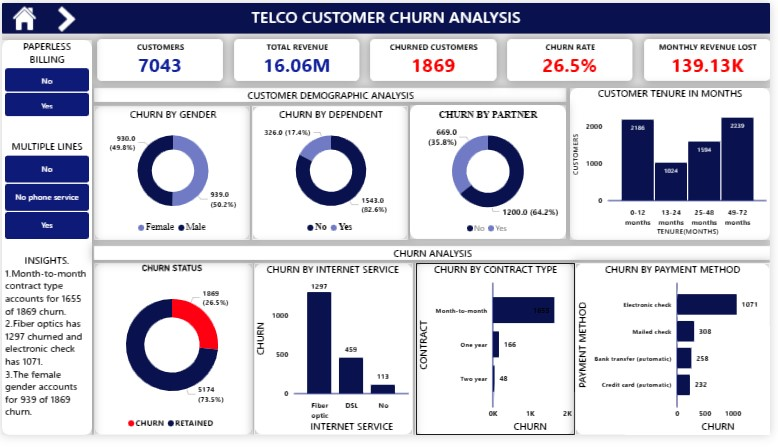

Layout of this report page (visuals, bound fields, positions):
{"tool":"powerbi","page":{"name":"OVERVIEW DASHBOARD","canvas":[1280,720],"ordinal":1},"visuals":[{"type":"shape","title":"CUSTOMER DEMOGRAPHIC ANALYSIS","box":[687.8,433.3,265,286.7],"z":0},{"type":"shape","title":"CUSTOMER DEMOGRAPHIC ANALYSIS","box":[153.3,433.3,265,286.7],"z":1000},{"type":"shape","title":"CUSTOMER DEMOGRAPHIC ANALYSIS","box":[153.3,171.7,260,223.3],"z":2000},{"type":"shape","title":"CUSTOMER DEMOGRAPHIC ANALYSIS","box":[153.3,141.7,786.7,23],"z":3000},{"type":"shape","box":[0,0,1280,51.4],"z":4000},{"type":"textbox","box":[0,0,1280,60],"z":5000},{"type":"card","title":"MONTHLY REVENUE LOST","fields":{"Values":["MEASURES (2).REVENUE LOST"]},"box":[1069.4,60.6,210.6,70.2],"z":6000},{"type":"card","title":"CUSTOMERS","fields":{"Values":["MEASURES (2).TOTAL_NUMBER_OF_CUSTOMERS"]},"box":[158.3,60.6,210,70],"z":7000},{"type":"card","title":"CHURNED CUSTOMERS","fields":{"Values":["MEASURES (2).Total_CHURNED_CUSTOMER"]},"box":[613.6,60.6,210.6,70.2],"z":8000},{"type":"card","title":"CHURN RATE","fields":{"Values":["MEASURES (2).CHURN RATE %"]},"box":[842.2,60.6,209.2,70.2],"z":9000},{"type":"card","title":"TOTAL REVENUE","fields":{"Values":["MEASURES (2).total revenue"]},"box":[386.4,60.6,209.2,70.2],"z":10000},{"type":"donutChart","title":"CHURN BY GENDER","fields":{"Y":["MEASURES (2).Total_CHURNED_CUSTOMER"],"Category":["Telco_Customer_Churn_Dataset  (2).Gender"]},"box":[153.3,175,263.3,220],"z":11000},{"type":"shape","title":"CUSTOMER DEMOGRAPHIC ANALYSIS","box":[416.7,171.7,260,223.3],"z":12000},{"type":"shape","title":"CUSTOMER DEMOGRAPHIC ANALYSIS","box":[946.7,141.7,333.3,253.3],"z":13000},{"type":"clusteredColumnChart","title":"CUSTOMER TENURE IN MONTHS","fields":{"Y":["MEASURES (2).TOTAL_NUMBER_OF_CUSTOMERS","select"],"Category":["Telco_Customer_Churn_Dataset  (2).Tenure_Group"]},"box":[946.7,140,333.3,253.3],"z":14000},{"type":"shape","title":"CUSTOMER DEMOGRAPHIC ANALYSIS","box":[0,61.7,150,658.3],"z":15000},{"type":"donutChart","title":"CHURN BY DEPENDENT","fields":{"Y":["MEASURES (2).Total_CHURNED_CUSTOMER"],"Category":["Telco_Customer_Churn_Dataset  (2).Dependents"]},"box":[418.3,175,260,220],"z":16000},{"type":"shape","title":"CUSTOMER DEMOGRAPHIC ANALYSIS","box":[420.6,433.3,265,286.7],"z":17000},{"type":"clusteredBarChart","title":"CHURN BY CONTRACT TYPE","fields":{"Category":["Telco_Customer_Churn_Dataset  (2).Contract"],"Y":["MEASURES (2).Total_CHURNED_CUSTOMER"]},"box":[690,433.3,265,286.7],"z":18000},{"type":"clusteredColumnChart","fields":{"Category":["Telco_Customer_Churn_Dataset  (2).Internet_Service"],"Y":["MEASURES (2).Total_CHURNED_CUSTOMER"]},"box":[1038.3,538.3,241.7,181.7],"z":19000},{"type":"shape","title":"CHURN ANALYSIS","box":[153.3,405,1126.7,23.3],"z":20000},{"type":"clusteredColumnChart","title":"CHURN BY INTERNET SERVICE","fields":{"Category":["Telco_Customer_Churn_Dataset  (2).Internet_Service"],"Y":["MEASURES (2).Total_CHURNED_CUSTOMER"]},"box":[418.3,433.3,265,286.7],"z":21000},{"type":"shape","title":"CUSTOMER DEMOGRAPHIC ANALYSIS","box":[955,433.3,325,286.7],"z":22000},{"type":"clusteredBarChart","title":"CHURN BY PAYMENT METHOD","fields":{"Category":["Telco_Customer_Churn_Dataset  (2).Payment_Method"],"Y":["MEASURES (2).Total_CHURNED_CUSTOMER"]},"box":[955,433.3,325,286.7],"z":23000},{"type":"advancedSlicerVisual","title":"PAPERLESS BILLING","fields":{"Values":["Telco_Customer_Churn_Dataset  (2).Paperless_Billing"]},"box":[0,61.7,150,133.3],"z":24000},{"type":"advancedSlicerVisual","title":"MULTIPLE LINES","fields":{"Values":["Telco_Customer_Churn_Dataset  (2).Multiple_Lines"]},"box":[0,228.3,150,171.7],"z":25000},{"type":"textbox","box":[0,413.3,150,306.7],"z":26000},{"type":"shape","title":"CUSTOMER DEMOGRAPHIC ANALYSIS","box":[680,170,260,223.3],"z":27000},{"type":"donutChart","title":"CHURN BY PARTNER","fields":{"Category":["Telco_Customer_Churn_Dataset  (2).Partner"],"Y":["MEASURES (2).Total_CHURNED_CUSTOMER"]},"box":[680,178.3,260,216.7],"z":28000},{"type":"donutChart","title":"CHURN STATUS","fields":{"Y":["MEASURES (2).Total_CHURNED_CUSTOMER","MEASURES (2).Total_UNCHURNED_CUSTOMER"]},"box":[153.3,433.3,260,286.7],"z":32000},{"type":"image","box":[0,0,75,51],"z":33000},{"type":"image","box":[75,0,65,51.7],"z":34000}]}

Visuals, with their boxes in screenshot pixels (x1, y1, x2, y2), scaled from the page's 1280x720 canvas onto the 778x448 screenshot:
"CUSTOMER DEMOGRAPHIC ANALYSIS" shape: 418,270,579,447
"CUSTOMER DEMOGRAPHIC ANALYSIS" shape: 93,270,254,447
"CUSTOMER DEMOGRAPHIC ANALYSIS" shape: 93,107,251,246
"CUSTOMER DEMOGRAPHIC ANALYSIS" shape: 93,88,571,102
shape: 0,0,777,32
textbox: 0,0,777,37
"MONTHLY REVENUE LOST" card: 650,38,777,81
"CUSTOMERS" card: 96,38,224,81
"CHURNED CUSTOMERS" card: 373,38,501,81
"CHURN RATE" card: 512,38,639,81
"TOTAL REVENUE" card: 235,38,362,81
"CHURN BY GENDER" donutChart: 93,109,253,246
"CUSTOMER DEMOGRAPHIC ANALYSIS" shape: 253,107,411,246
"CUSTOMER DEMOGRAPHIC ANALYSIS" shape: 575,88,777,246
"CUSTOMER TENURE IN MONTHS" clusteredColumnChart: 575,87,777,245
"CUSTOMER DEMOGRAPHIC ANALYSIS" shape: 0,38,91,447
"CHURN BY DEPENDENT" donutChart: 254,109,412,246
"CUSTOMER DEMOGRAPHIC ANALYSIS" shape: 256,270,417,447
"CHURN BY CONTRACT TYPE" clusteredBarChart: 419,270,580,447
clusteredColumnChart - Telco_Customer_Churn_Dataset  (2).Internet_Service x MEASURES (2).Total_CHURNED_CUSTOMER: 631,335,777,447
"CHURN ANALYSIS" shape: 93,252,777,266
"CHURN BY INTERNET SERVICE" clusteredColumnChart: 254,270,415,447
"CUSTOMER DEMOGRAPHIC ANALYSIS" shape: 580,270,777,447
"CHURN BY PAYMENT METHOD" clusteredBarChart: 580,270,777,447
"PAPERLESS BILLING" advancedSlicerVisual: 0,38,91,121
"MULTIPLE LINES" advancedSlicerVisual: 0,142,91,249
textbox: 0,257,91,447
"CUSTOMER DEMOGRAPHIC ANALYSIS" shape: 413,106,571,245
"CHURN BY PARTNER" donutChart: 413,111,571,246
"CHURN STATUS" donutChart: 93,270,251,447
image: 0,0,46,32
image: 46,0,85,32
